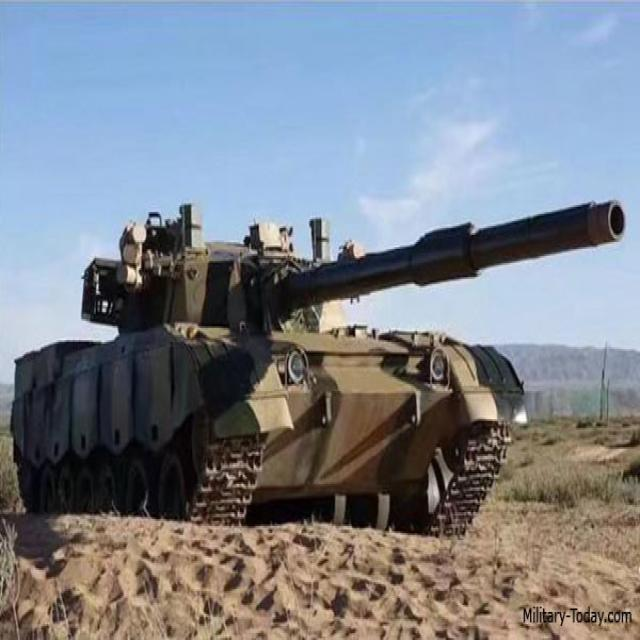Tank: (36, 148, 528, 568)
